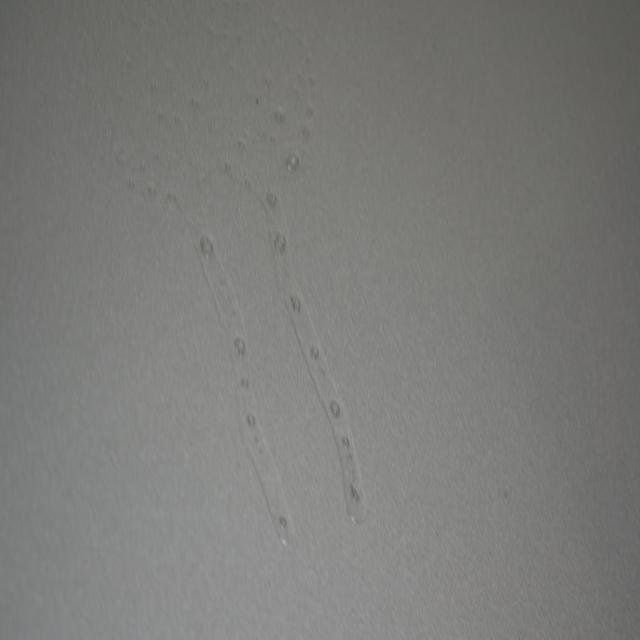runs: (94, 28, 368, 541)
